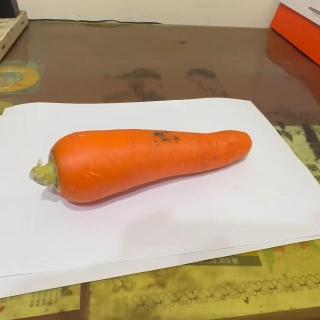carrot: (30, 128, 254, 204)
